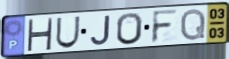F: (150, 8, 180, 45)
H: (26, 17, 55, 52)
J: (89, 14, 112, 47)
O: (116, 11, 144, 46)
Q: (179, 7, 207, 42)
U: (54, 15, 82, 50)
